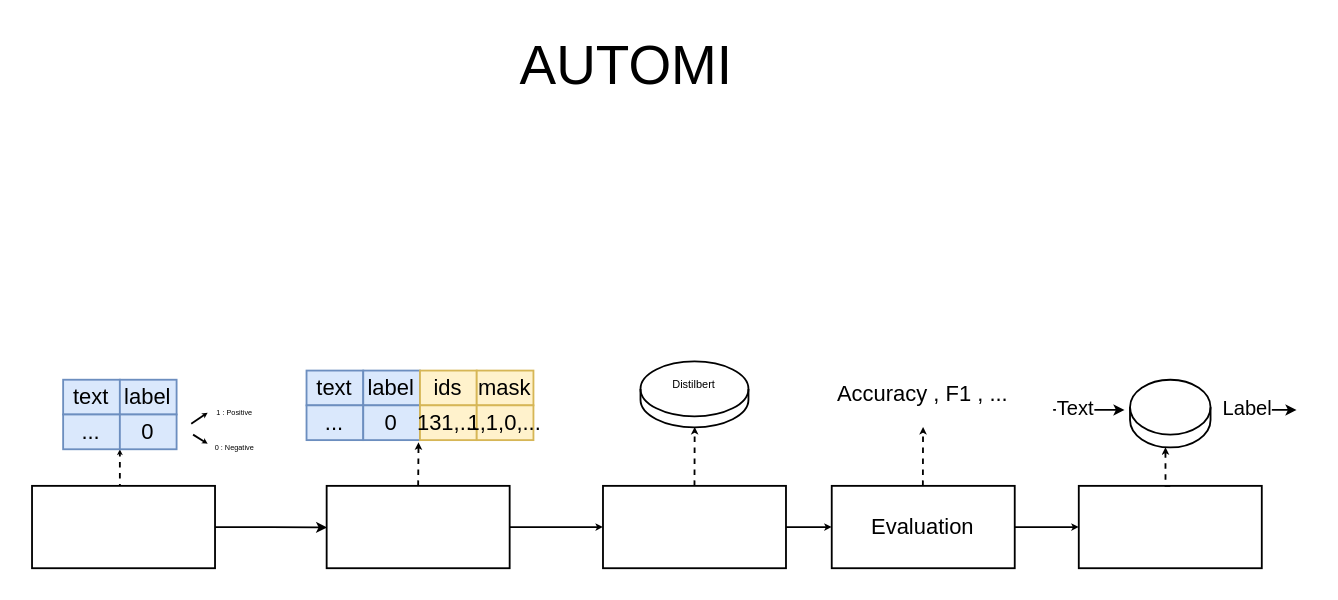
The diagram is 1338 pixels wide and 600 high, and some of its shapes have lost their labels. Here are the shapes that lost their labels. From the top down, the box of each, then its label:
(30, 484, 215, 568): Load Amazon Dataset
(325, 484, 510, 568): Preprocess + Tokenize
(601, 484, 786, 568): Training
(1077, 484, 1262, 568): Inference
